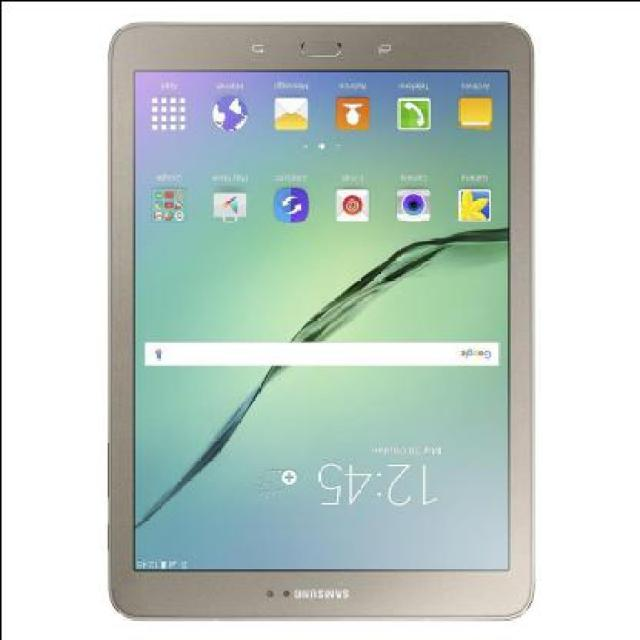tablet: (71, 0, 562, 640)
